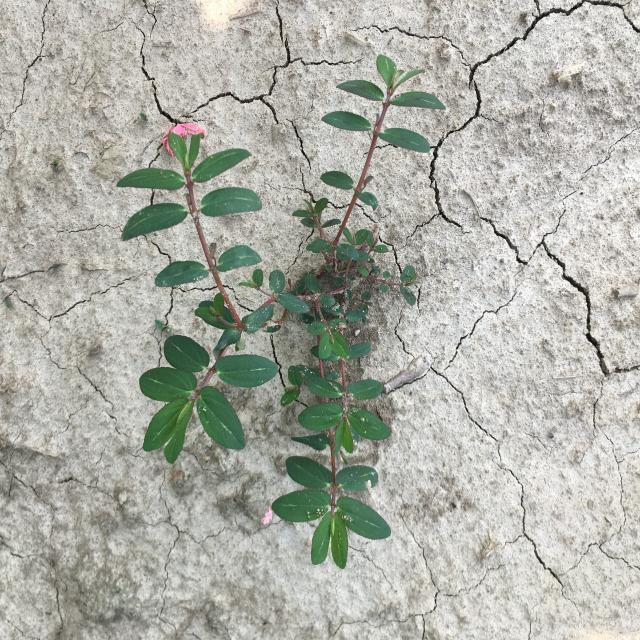SpottedSpurge: (116, 54, 447, 570)
